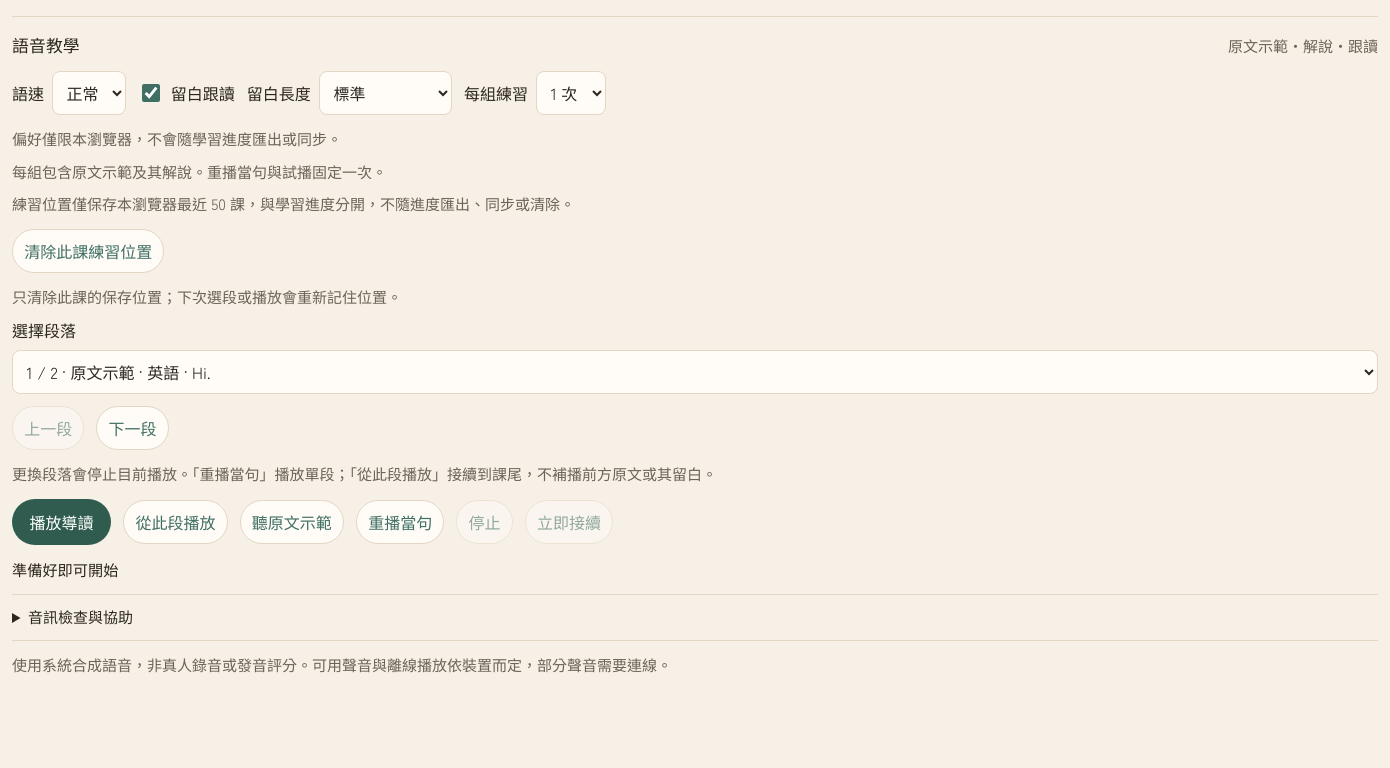
Test: 語音教學的真實元件互動 › 關閉再開啟留白保留長度，重新掛載仍沿用保存結果
The width and height of the screenshot is (1390, 768).
Select "加長（2 倍）" in the dropdown labelled "留白長度": (385,93) [319,71,452,115]
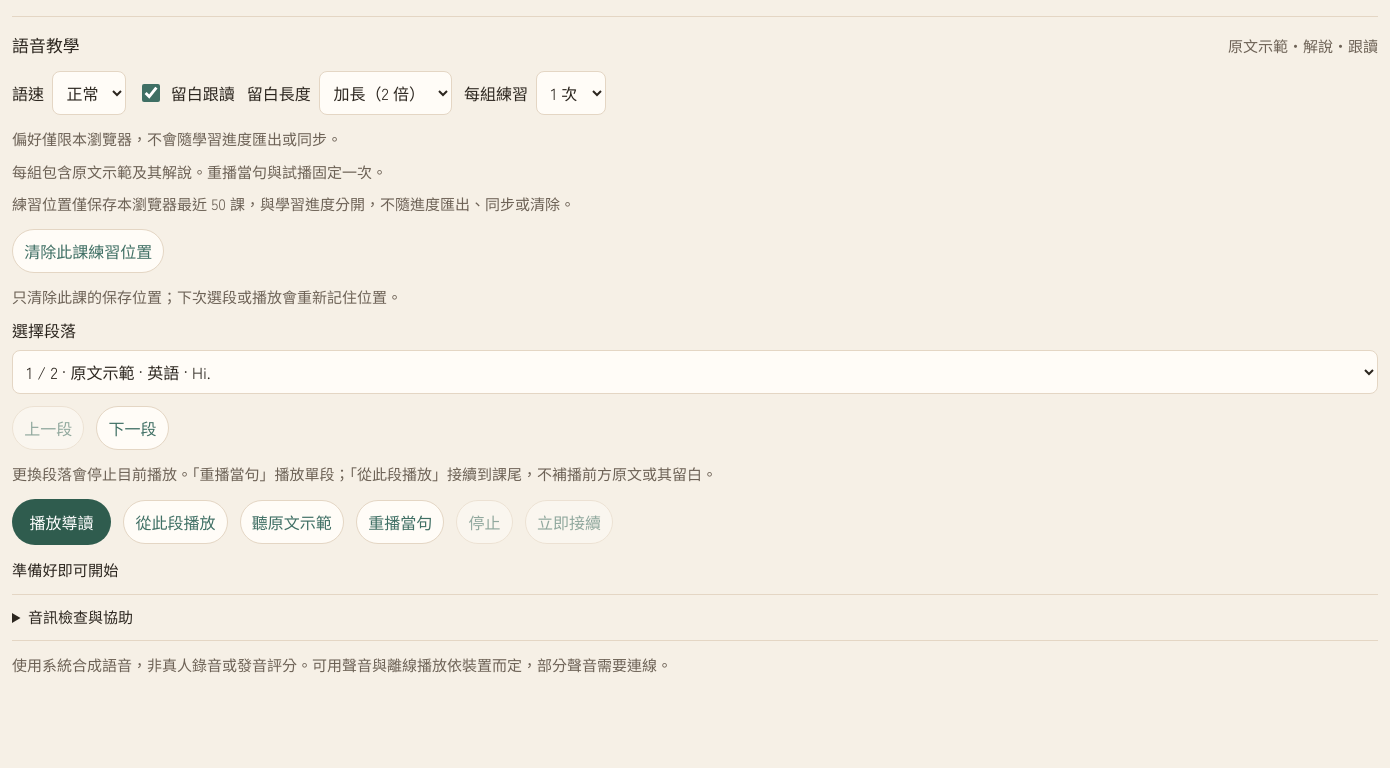
Click the checkbox labelled "留白跟讀": (151,93) [142,84,160,102]
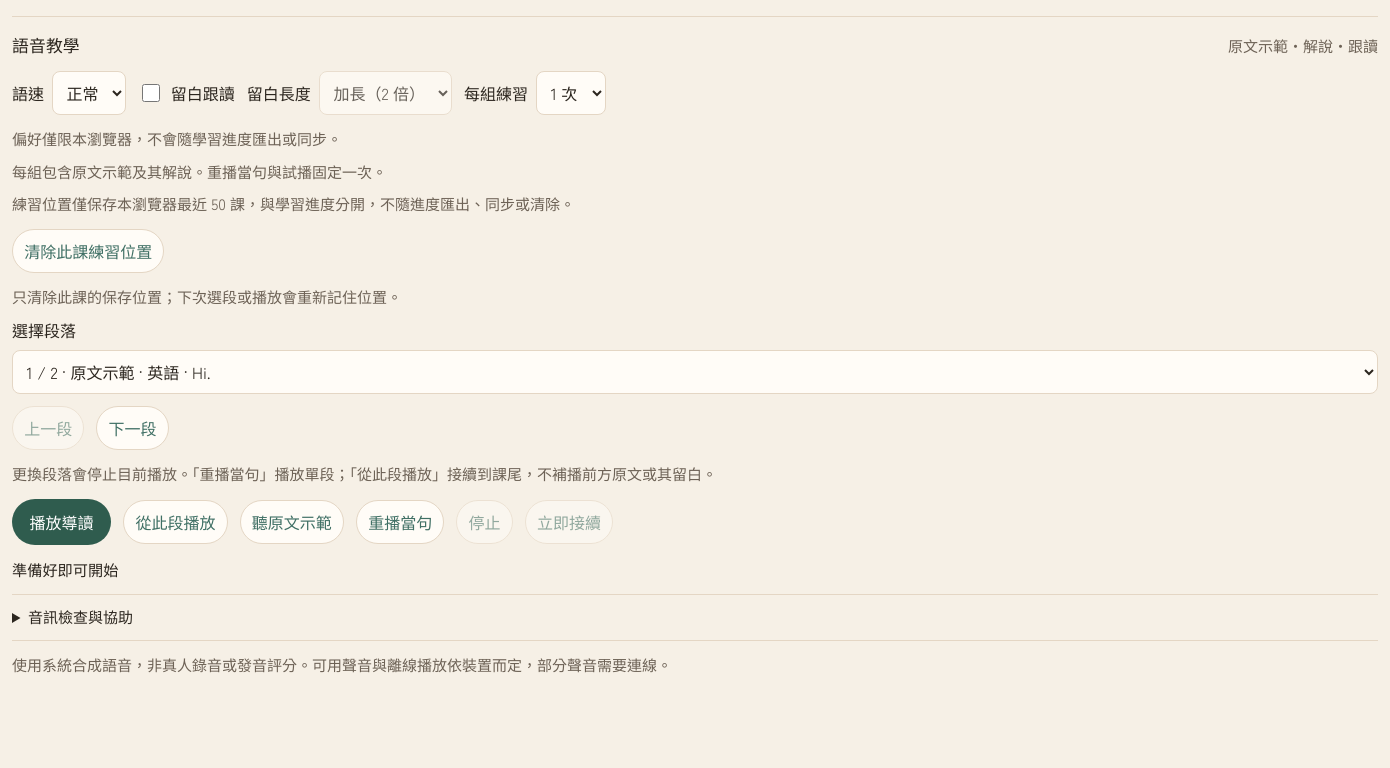
Result: the dropdown labelled "留白長度" is disabled at [319,71,452,115]
Click the checkbox labelled "留白跟讀": (151,93) [142,84,160,102]
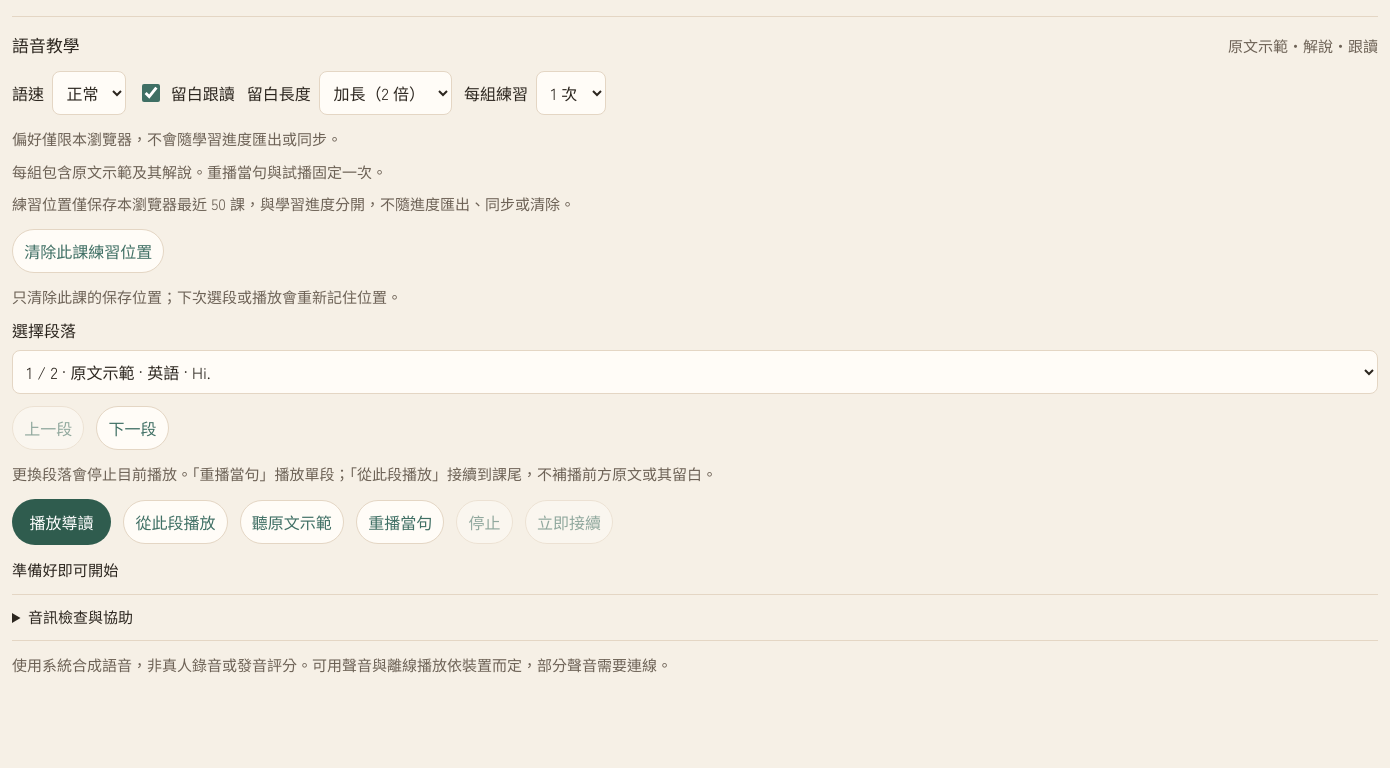
Expected: the dropdown labelled "語速" is enabled, [52,71,126,115]
Result: the dropdown labelled "留白長度" shows "加長（2 倍）" at [319,71,452,115]
Result: the checkbox labelled "留白跟讀" is checked at [142,84,160,102]
